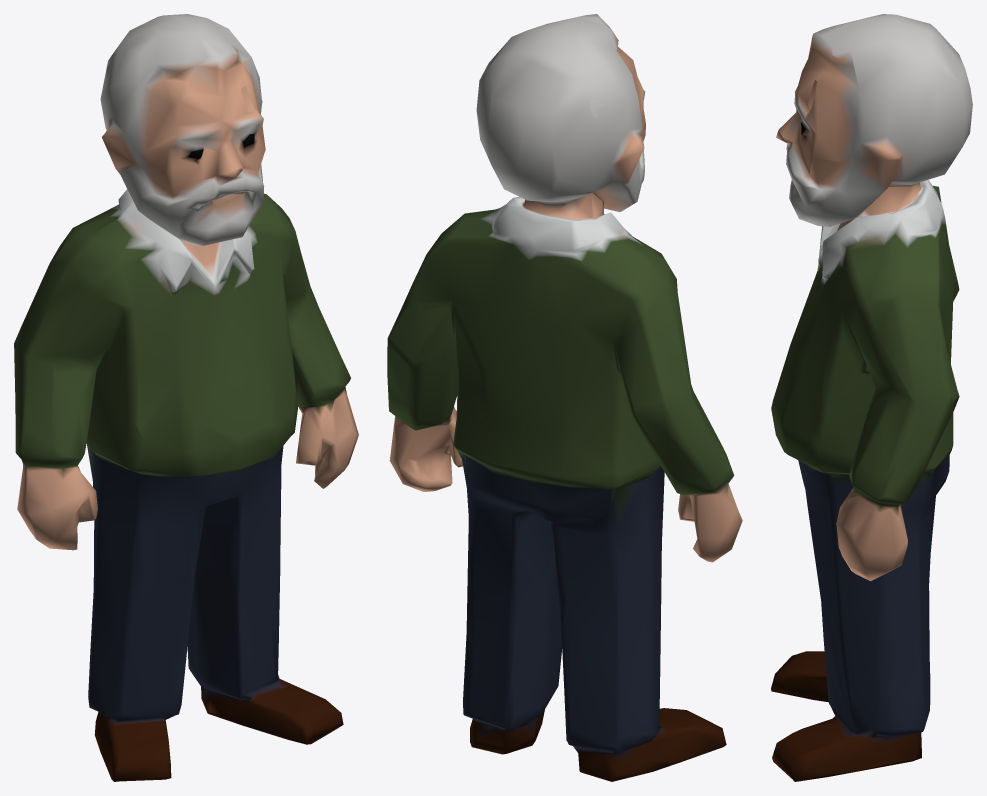
File: gen3d-grandpa-lod0.glb
3 views of the same model, side by side, from view 1: azimuth 30°, elevation 25°; view 2: azimuth 150°, elevation 25°; view 3: azimuth 270°, elevation 25° (orthographic). The views are drawn at different scales.
Parts seen in each view (by area): view 1: part_0; view 2: part_0; view 3: part_0.
Boxes of the visible parts, left/top/right/bottom form: part_0: left=14, top=14, right=358, bottom=781; part_0: left=387, top=14, right=742, bottom=781; part_0: left=771, top=14, right=972, bottom=781.
Bounding box in the file's own units: 0.4933 × 0.9996 × 0.2589.
